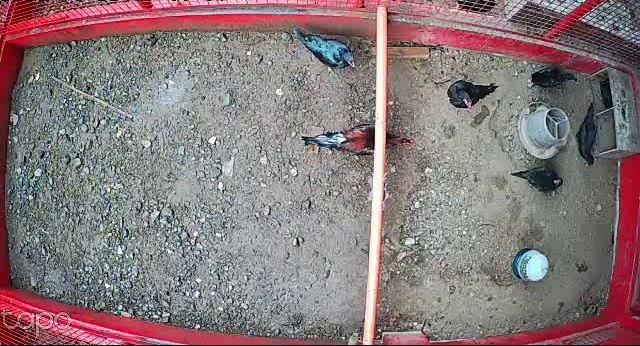Chicken: (290, 25, 357, 77), (572, 96, 599, 170), (447, 76, 498, 113), (507, 164, 567, 194), (522, 63, 580, 93)
Drinker: (510, 247, 550, 283)
Feeder: (514, 99, 572, 164)
Rooster: (294, 118, 416, 158)
